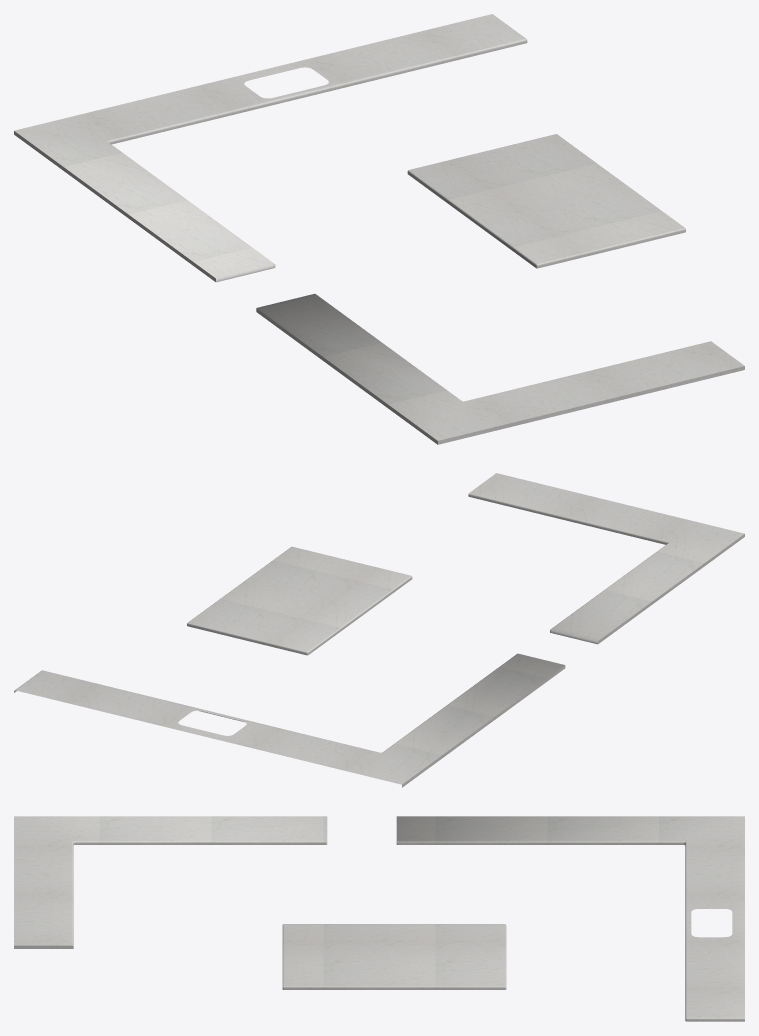
The model's file is 2345_kitchen_Countertops_QuartzCalacattaKarmelo.gltf.
The picture shows the model from 3 angles, top to bottom: view 1: azimuth 30°, elevation 25°; view 2: azimuth 150°, elevation 25°; view 3: azimuth 270°, elevation 25°; orthographic projection. The views are drawn at different scales.
Visible parts, largest first — view 1: Countertops_Quartz Calacatta Karmelo; view 2: Countertops_Quartz Calacatta Karmelo; view 3: Countertops_Quartz Calacatta Karmelo.
Part boxes in pixels (<box>): Countertops_Quartz Calacatta Karmelo: <box>14,14,744,444</box>; Countertops_Quartz Calacatta Karmelo: <box>14,473,744,787</box>; Countertops_Quartz Calacatta Karmelo: <box>14,816,744,1021</box>.
Bounding box in the file's own units: 6.4 × 0.05 × 9.8.
1 material, 1 textured.
